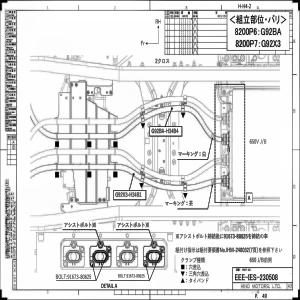PartNumber: (151, 128, 179, 134), (114, 192, 142, 197), (67, 274, 92, 279), (127, 273, 145, 279)
